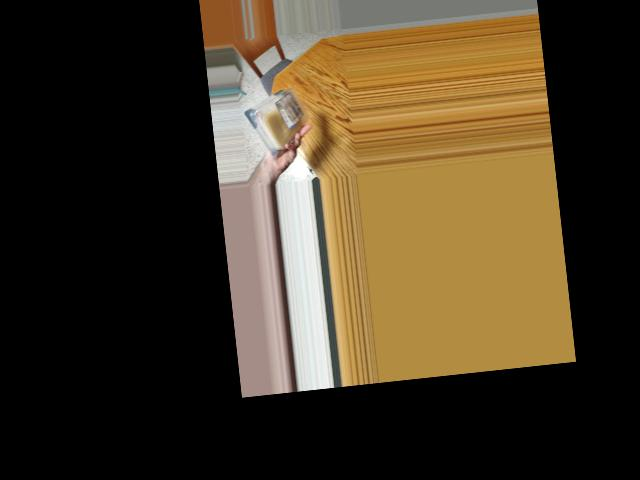cheese: (249, 82, 310, 155)
